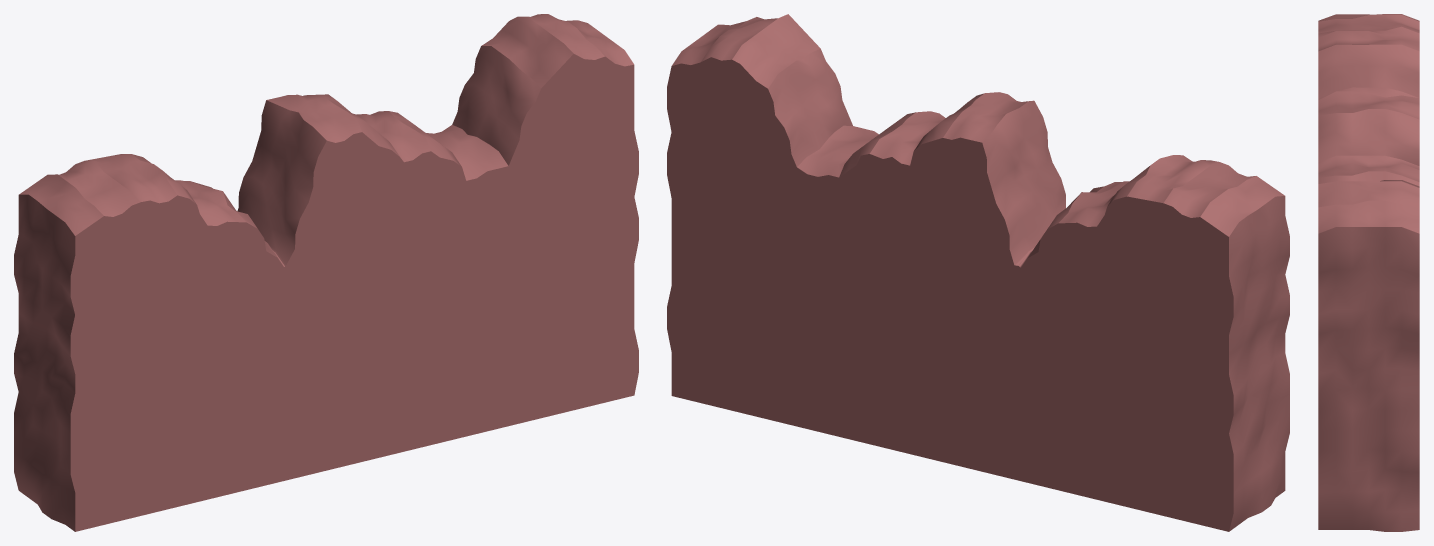
File: HalfWall_02_fbx.fbx
The picture shows the model from 3 angles, left to right: view 1: azimuth 30°, elevation 25°; view 2: azimuth 150°, elevation 25°; view 3: azimuth 270°, elevation 25°; orthographic projection. The views are drawn at different scales.
Visible parts, largest first — view 1: Hw__BrokenWall_02; view 2: Hw__BrokenWall_02; view 3: Hw__BrokenWall_02.
Boxes of the visible parts, <box> form: Hw__BrokenWall_02: <box>14,14,638,531</box>; Hw__BrokenWall_02: <box>667,14,1289,531</box>; Hw__BrokenWall_02: <box>1318,14,1419,531</box>.
Bounding box in the file's own units: 2.03 × 1.23 × 0.35.
